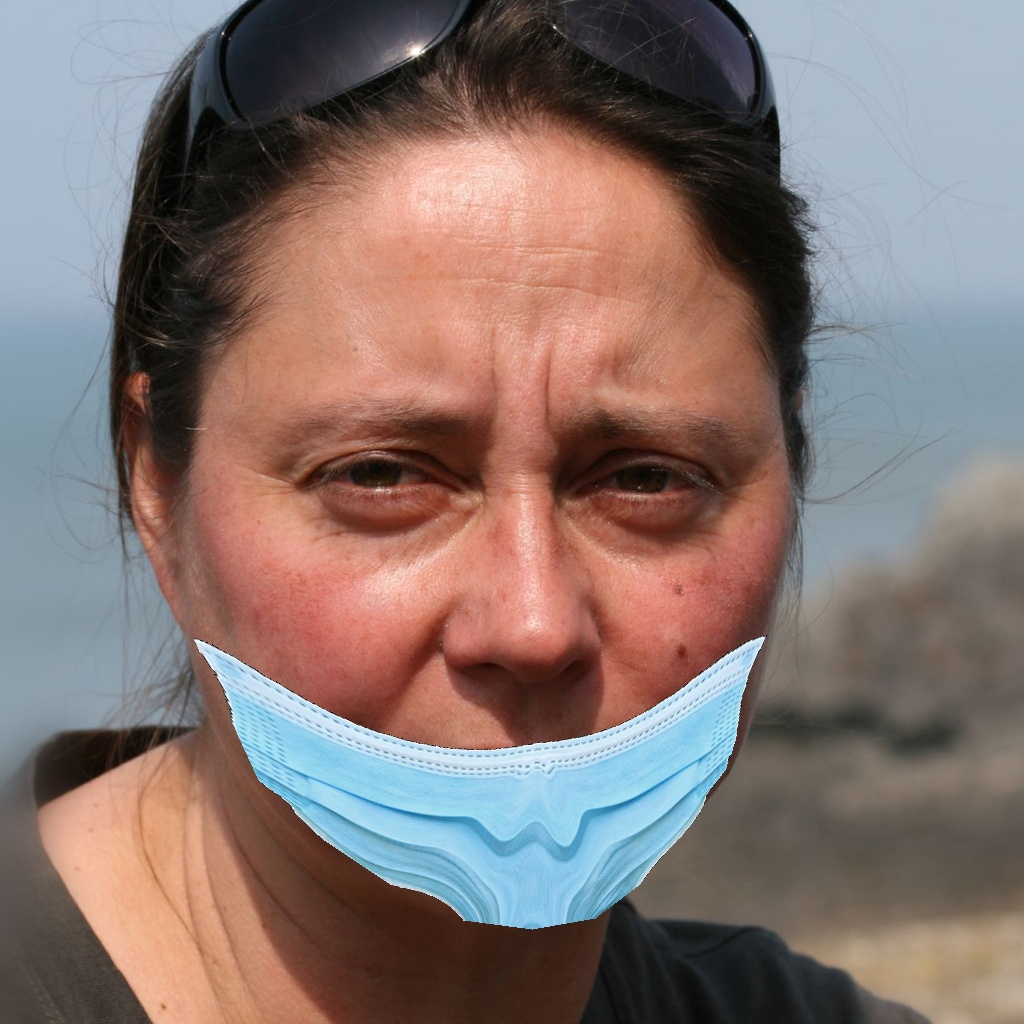mascarilla_mal_puesta: (162, 185, 797, 948)
